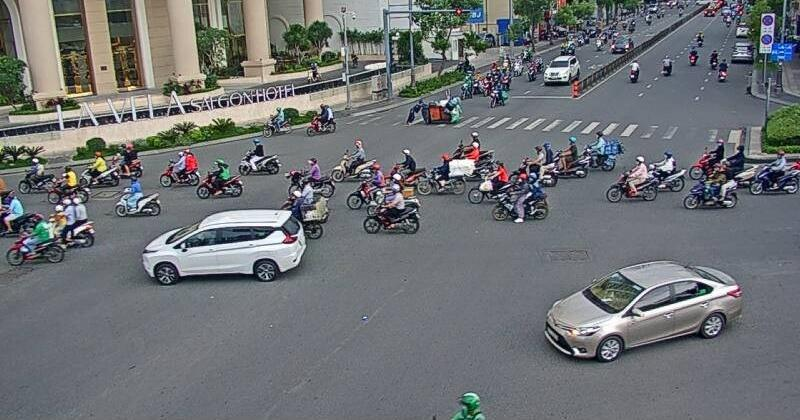xe hoi: (544, 259, 740, 360), (141, 209, 304, 285)
xe may: (5, 212, 65, 267), (362, 183, 420, 234), (492, 171, 548, 220), (682, 161, 738, 210), (604, 155, 658, 203), (748, 150, 800, 195), (417, 153, 465, 195), (113, 176, 160, 217), (195, 159, 243, 199), (331, 139, 375, 182), (647, 151, 687, 193), (158, 148, 201, 187), (238, 138, 280, 176), (82, 151, 119, 187), (306, 103, 336, 137)
